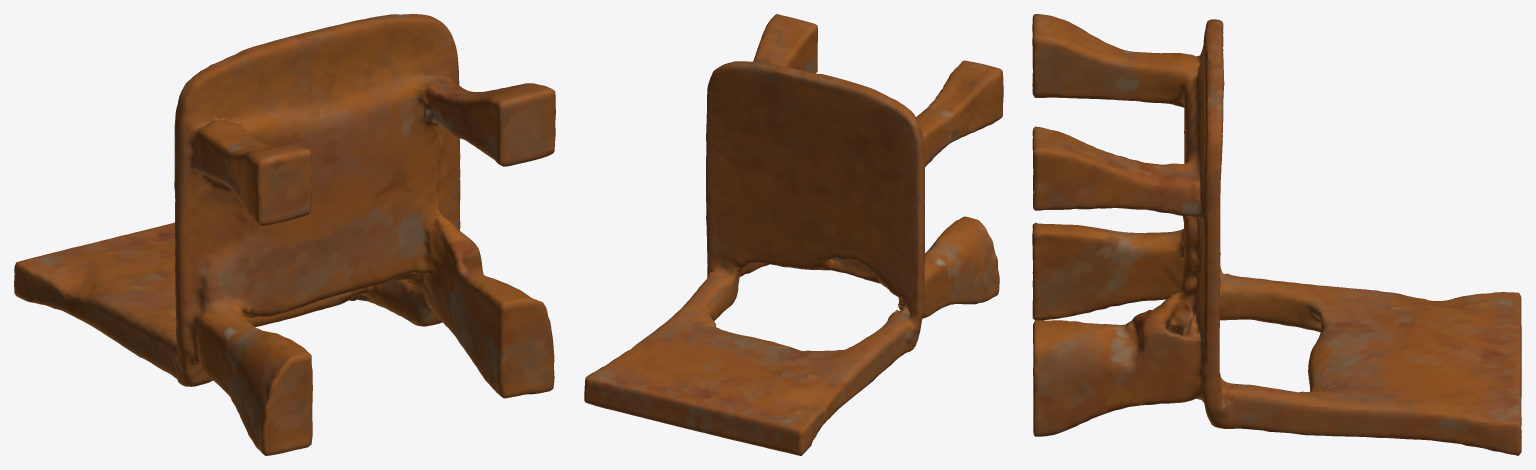
The model's file is double seated chair made of wood on the top and St.glb.
3 views of the same model, side by side, from view 1: azimuth 30°, elevation 25°; view 2: azimuth 150°, elevation 25°; view 3: azimuth 270°, elevation 25° (orthographic). The views are drawn at different scales.
Parts seen in each view (by area): view 1: double seated chair made of wood on the top and St; view 2: double seated chair made of wood on the top and St; view 3: double seated chair made of wood on the top and St.
Boxes of the visible parts, box(x1,y1,x2,y2) form: double seated chair made of wood on the top and St: box(14, 14, 555, 455); double seated chair made of wood on the top and St: box(584, 14, 1003, 455); double seated chair made of wood on the top and St: box(1032, 14, 1521, 455).
Size of the model in its own units: 0.675 by 0.751 by 1.
